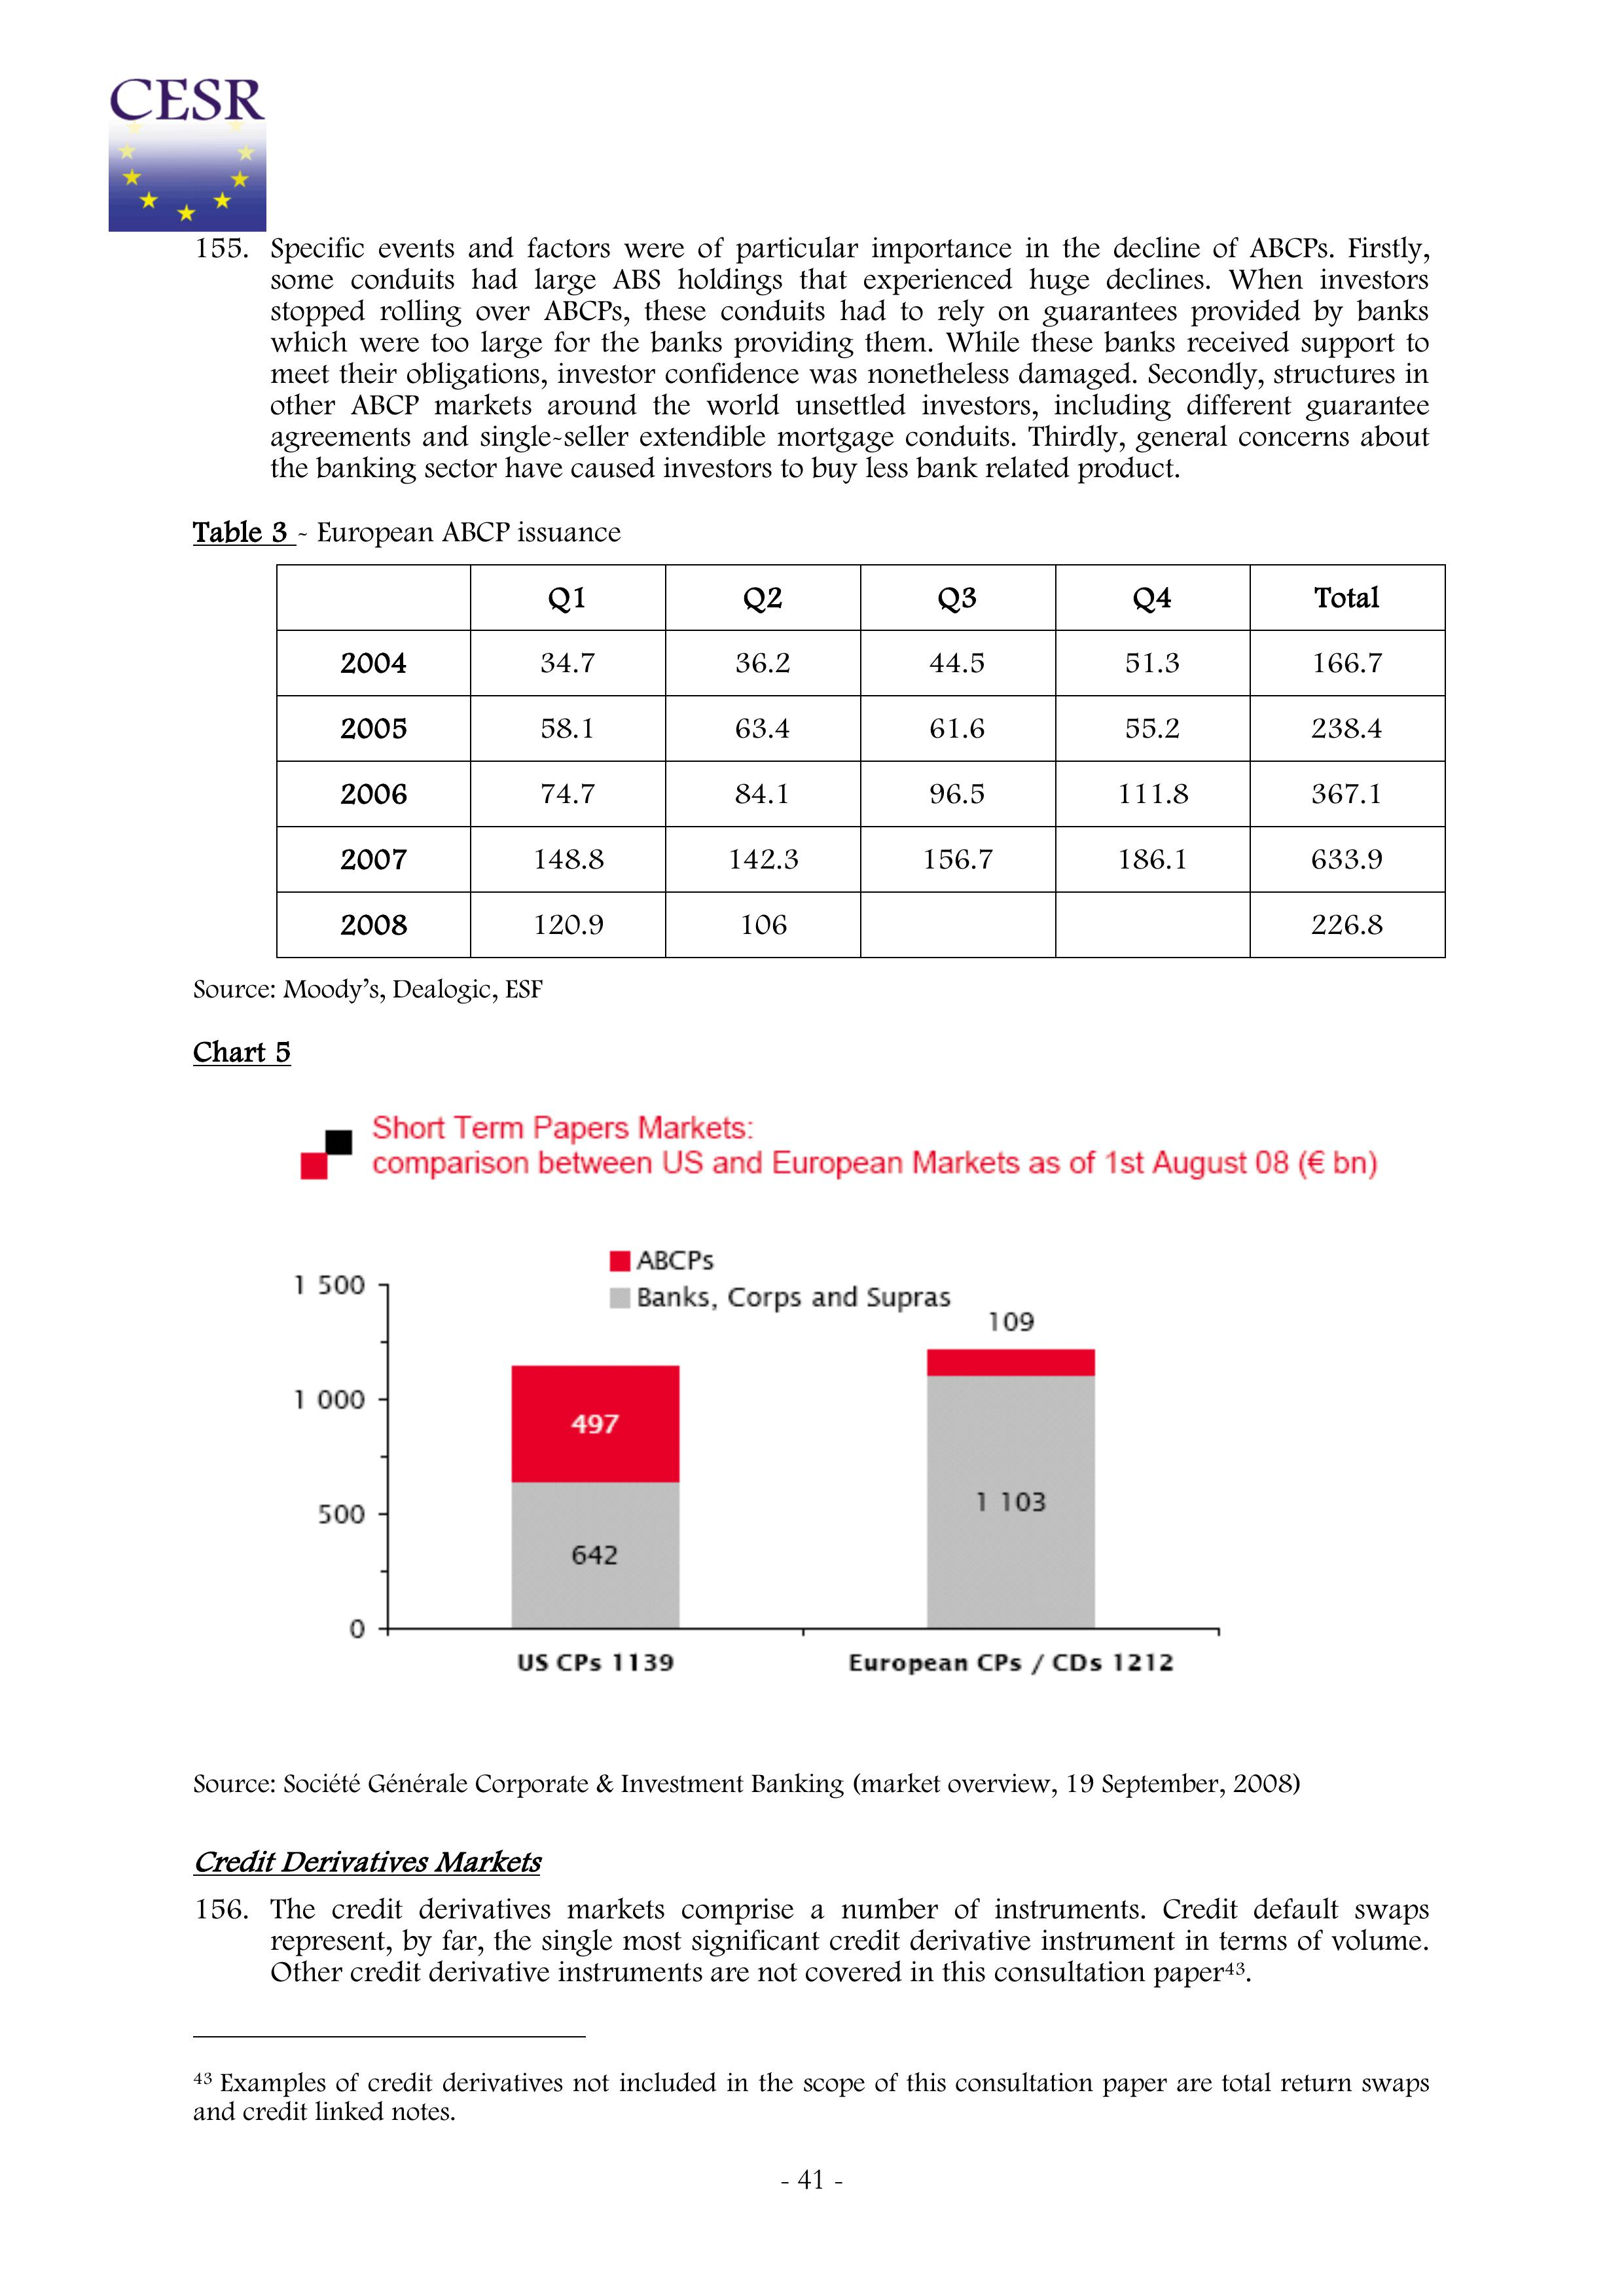plot: (188, 1033, 1431, 1737)
table: (257, 560, 1462, 970)
